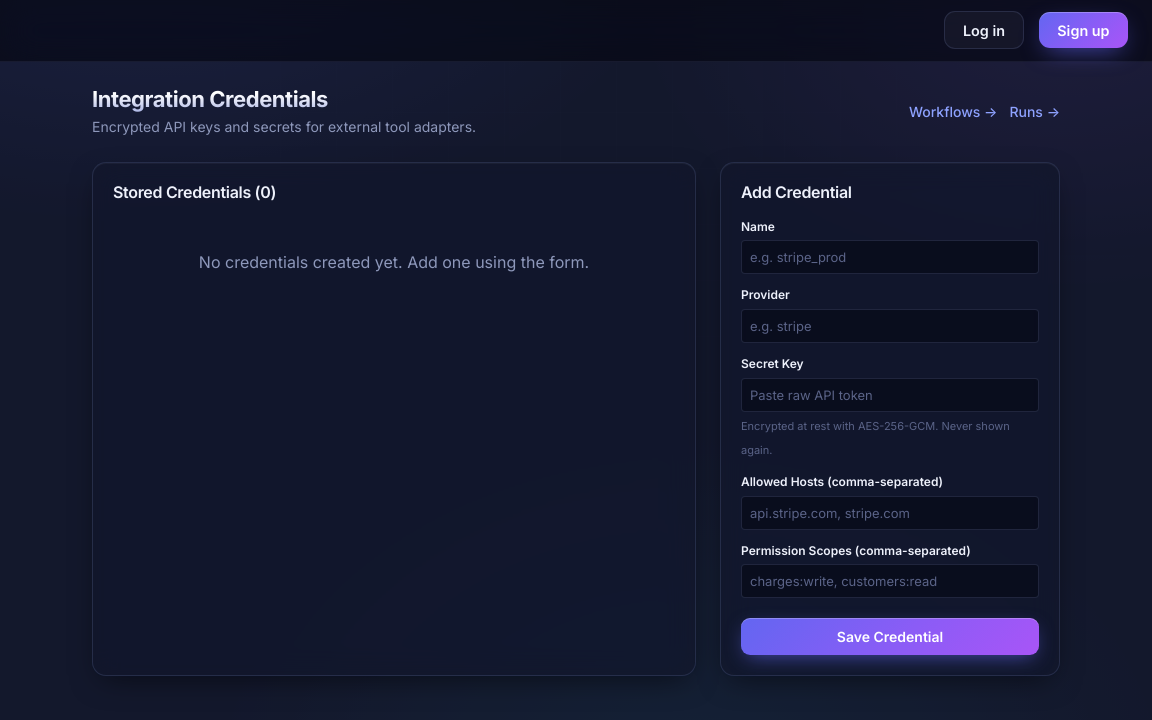
it: Credentials Suite (P5-F03) › P5-F03: credential creation clears secret input and appends item
Check: the text "No credentials created yet. Add one using the form." is shown, box [199,252,589,272]
# Fill form
In the field with test id "credential-name-input": x=890, y=257 [741,240,1039,274], type "stripe_prod"
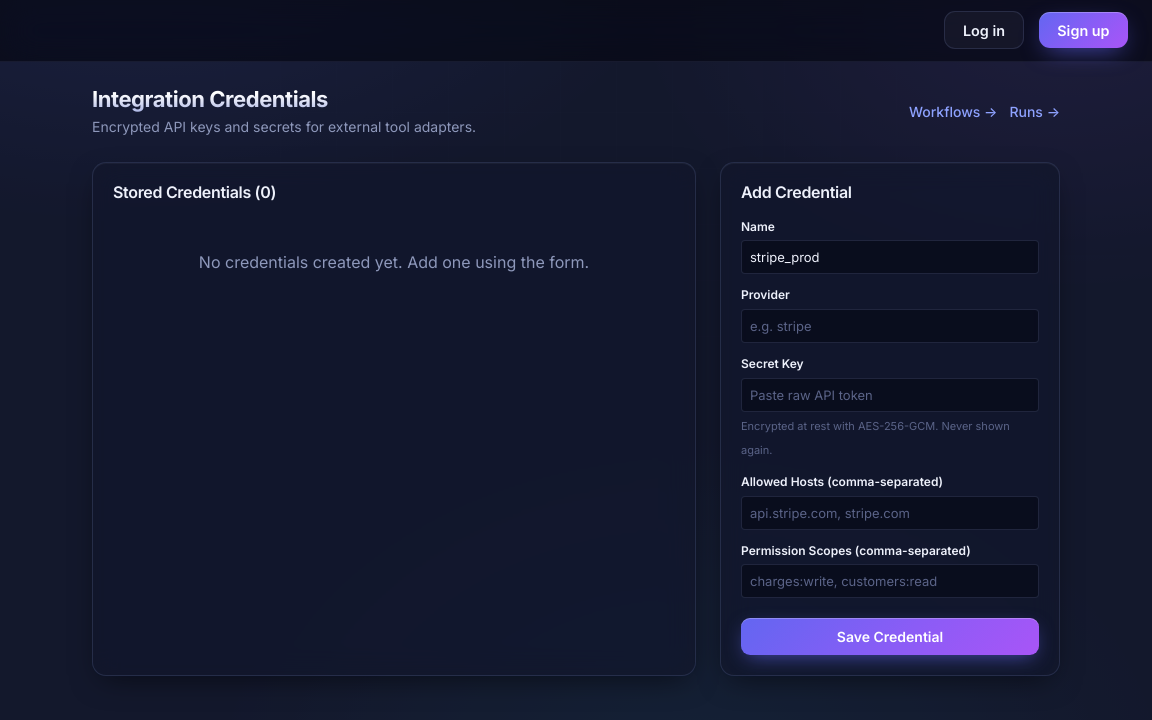
In the field with test id "credential-provider-input": x=890, y=326 [741,309,1039,343], type "stripe"
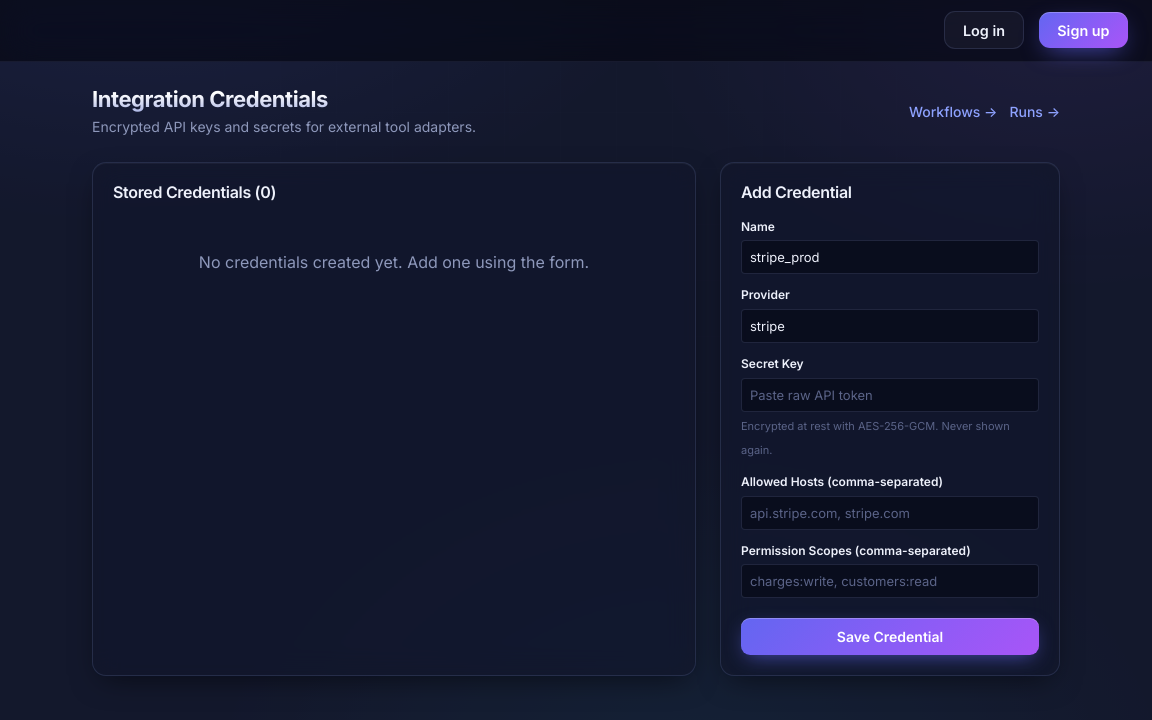
In the password field with test id "credential-secret-input": x=890, y=395 [741,378,1039,412], type "sk_live_supersecret_123"
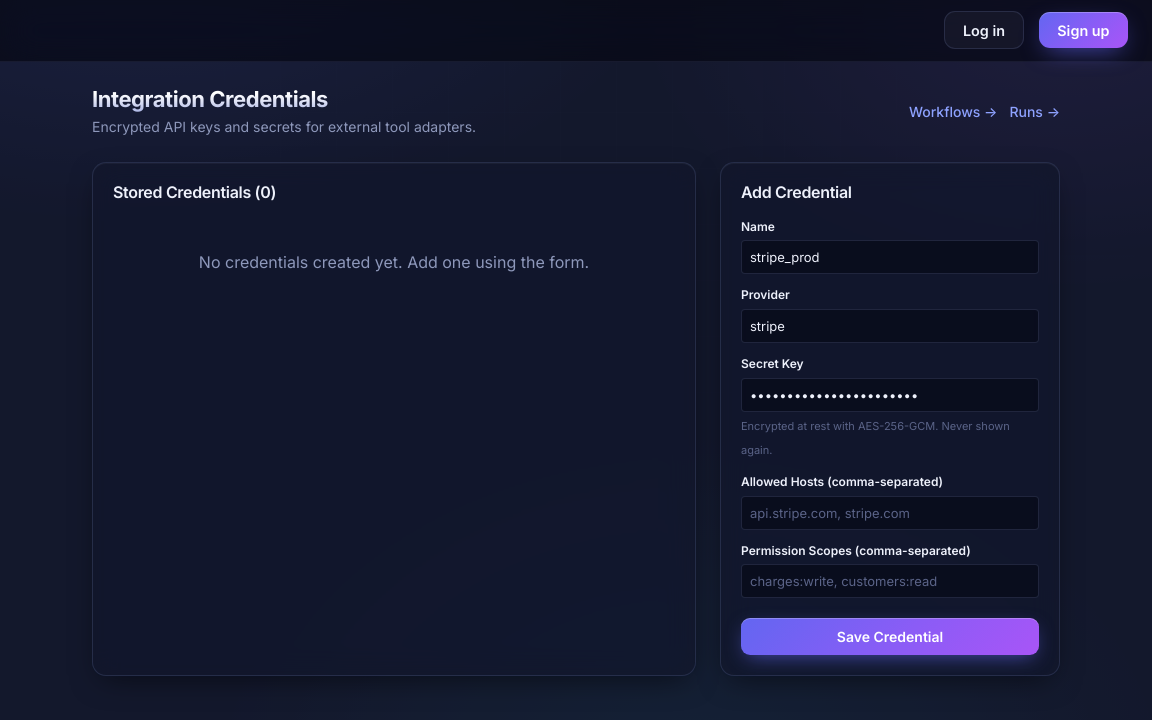
In the field with test id "credential-hosts-input": x=890, y=513 [741,496,1039,530], type "api.stripe.com"
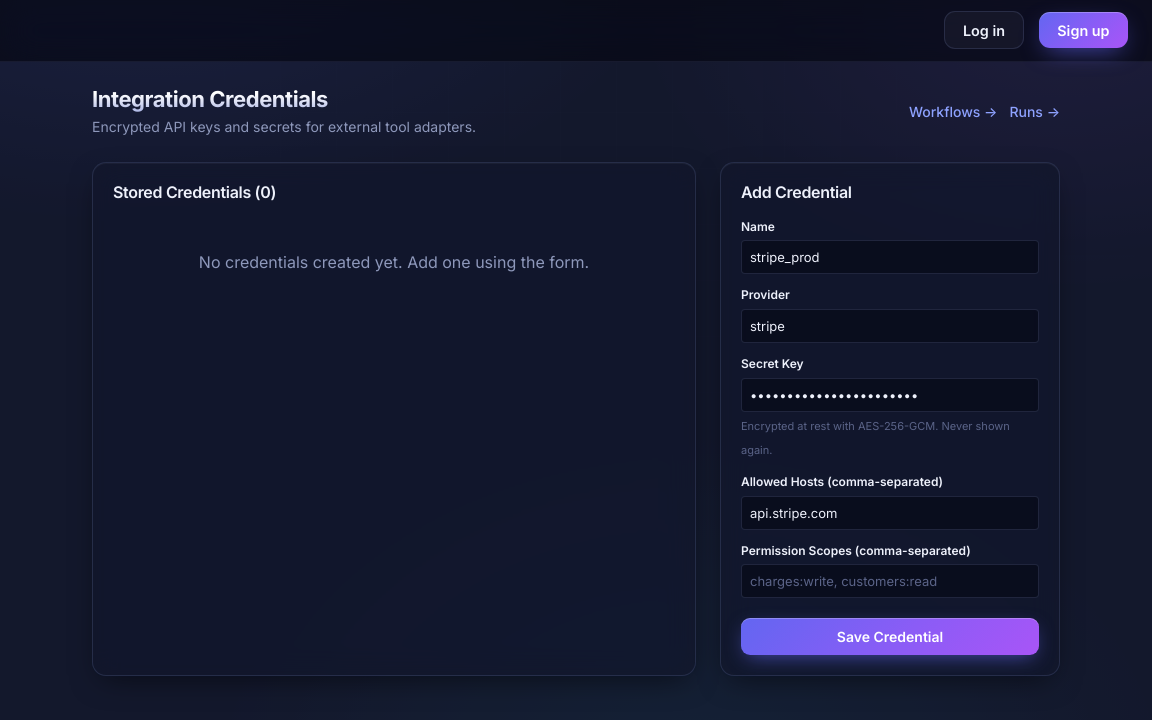
Click the button with test id "credential-submit-btn": x=890, y=637 [741,618,1039,655]
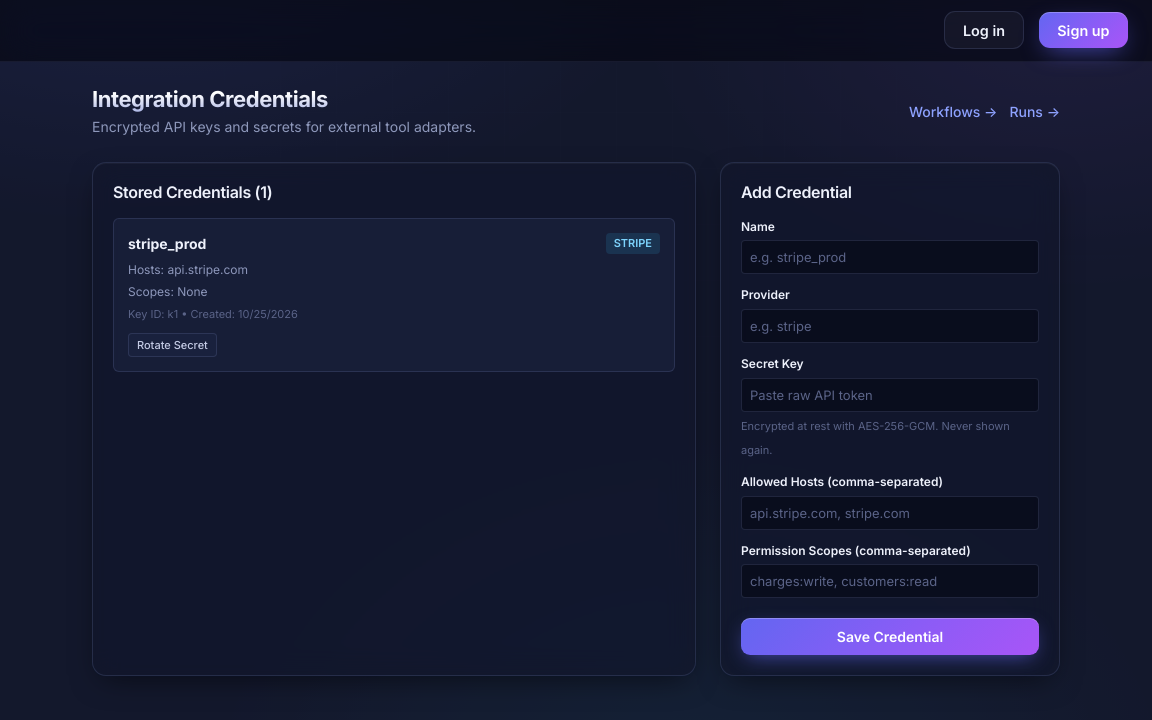
Check: the password field with test id "credential-secret-input" is empty, box [741,378,1039,412]
Check: the element with test id "credential-item-cred-999" is shown, box [113,218,675,372]
Check: the text with test id "credential-name-cred-999" reads "stripe_prod", box [128,235,206,252]
